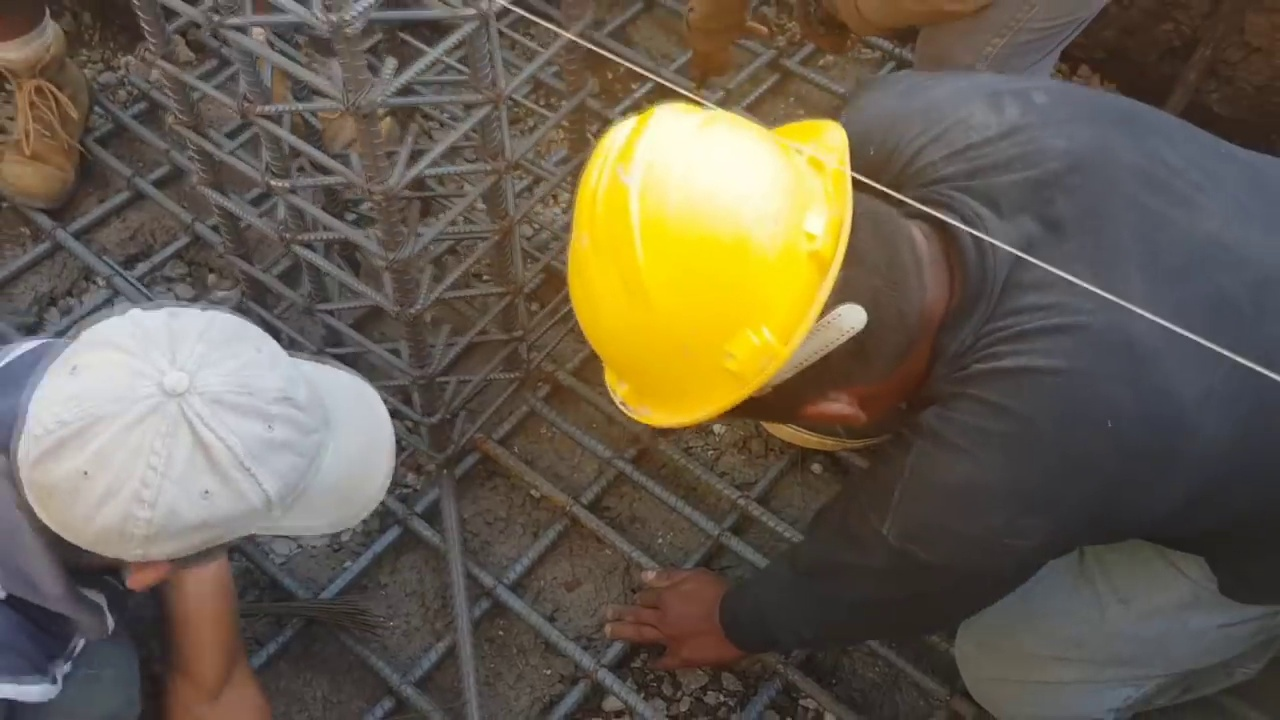helmet: (556, 94, 852, 431)
helmet-off: (12, 302, 394, 624)
helmet-on: (555, 82, 968, 450)
person: (561, 85, 1280, 720), (0, 305, 398, 714)
